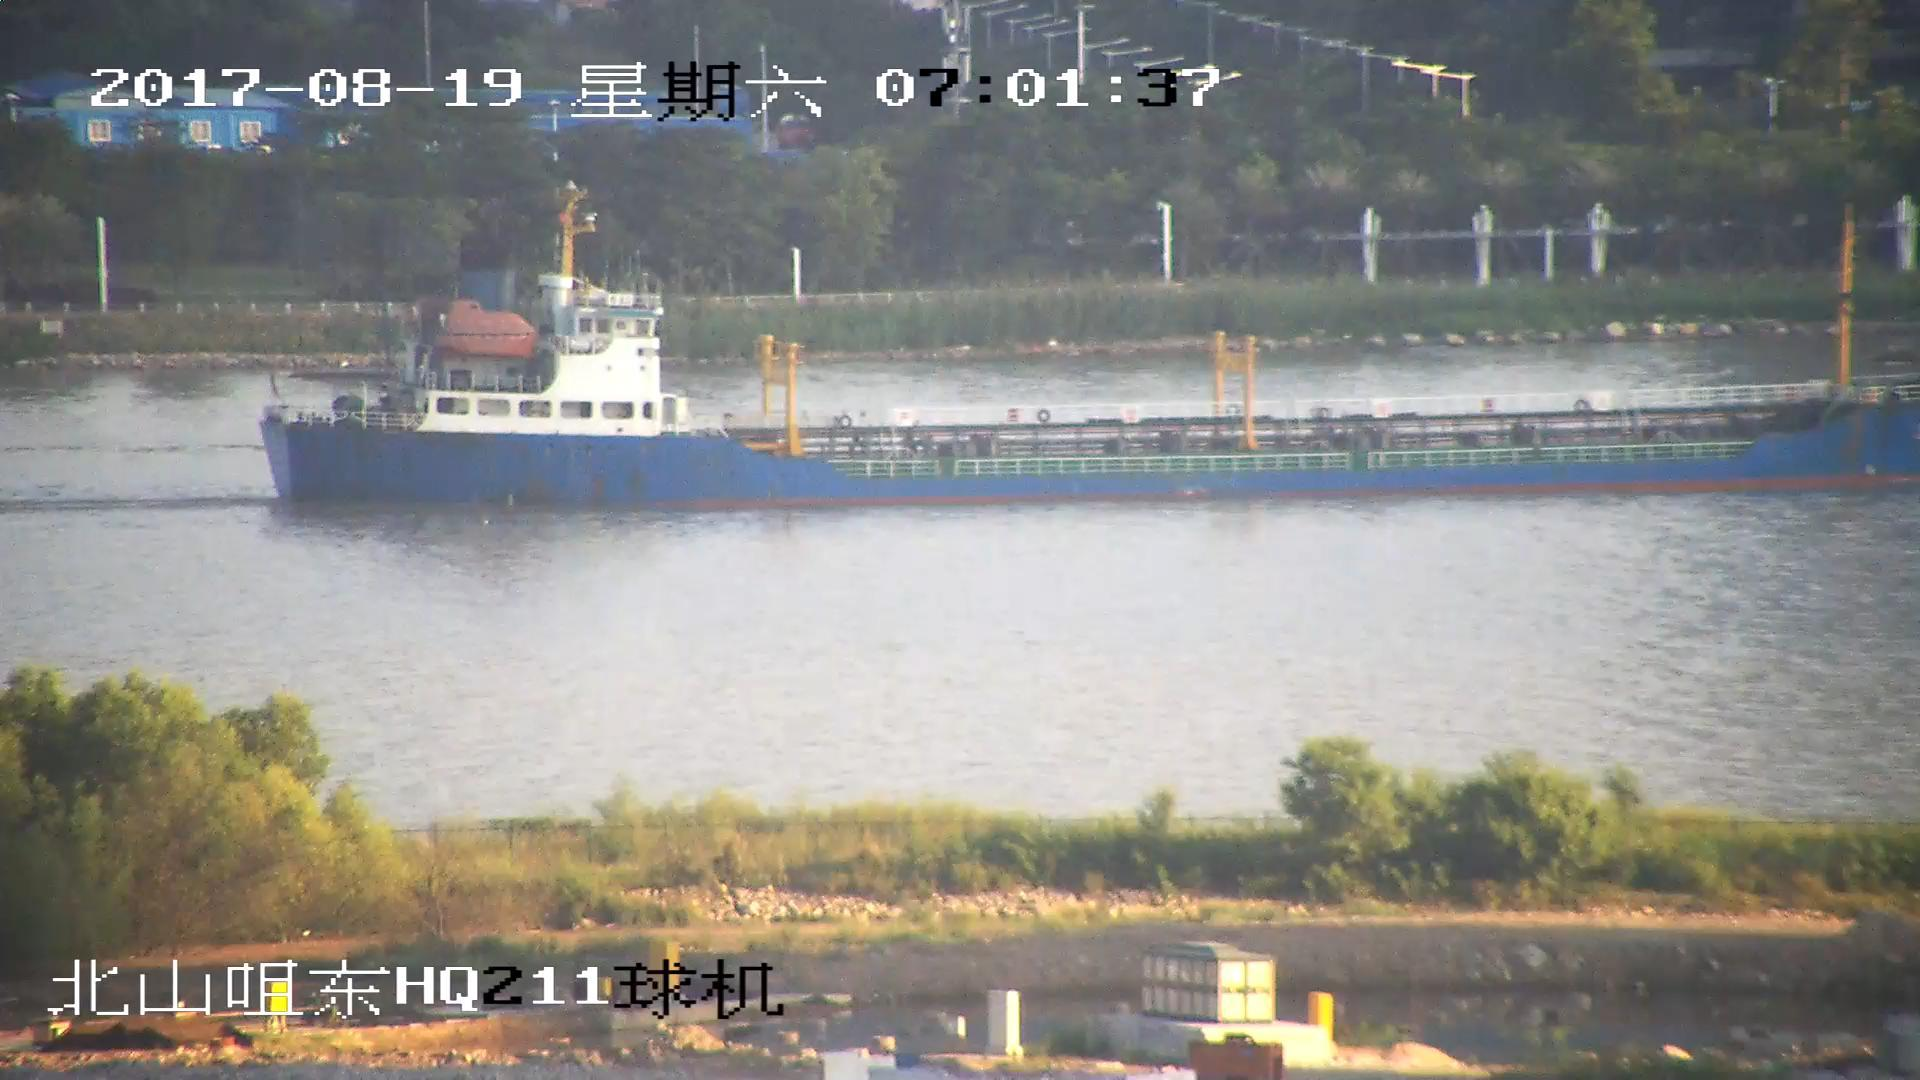Ship: (251, 204, 1920, 502)
